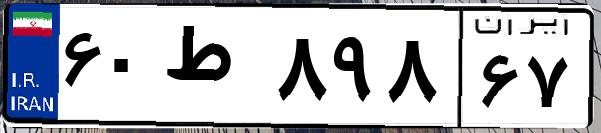0: (110, 28, 158, 98)
6: (57, 26, 110, 100), (475, 38, 525, 113)
7: (525, 38, 570, 115)
8: (270, 28, 330, 110), (385, 28, 445, 110)
9: (330, 28, 385, 110)
ط: (158, 20, 270, 120)
